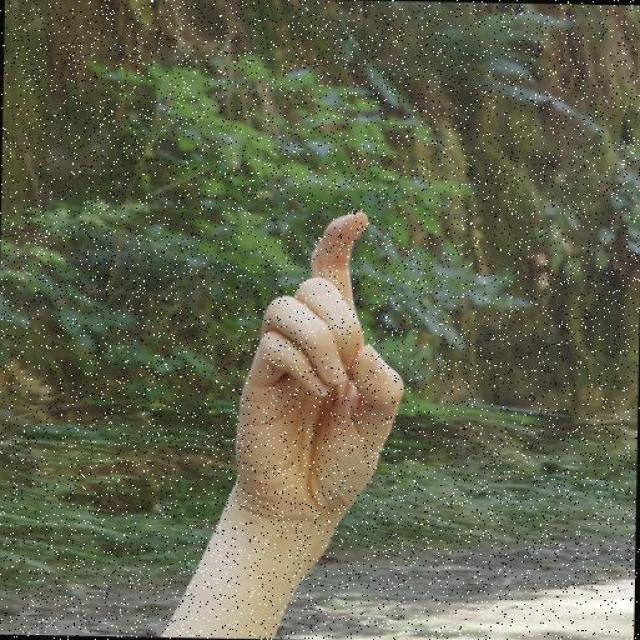X: (220, 206, 416, 540)
